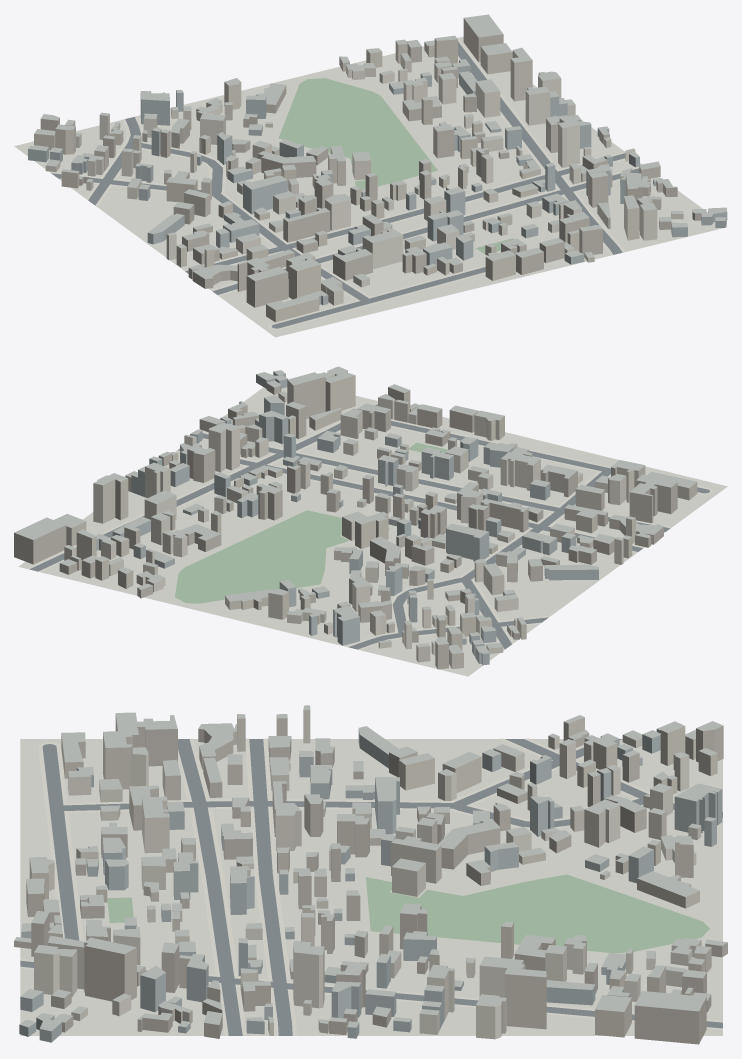
The picture shows the model from 3 angles, top to bottom: view 1: azimuth 30°, elevation 25°; view 2: azimuth 150°, elevation 25°; view 3: azimuth 270°, elevation 25°; orthographic projection. The views are drawn at different scales.
Parts seen in each view (by area): view 1: city; view 2: city; view 3: city.
Boxes of the visible parts, x1,y1,x2,y2 form: city: (14,14,727,337); city: (14,366,727,676); city: (14,705,727,1044).
Size of the model in its own units: 521 by 41.8 by 508.
